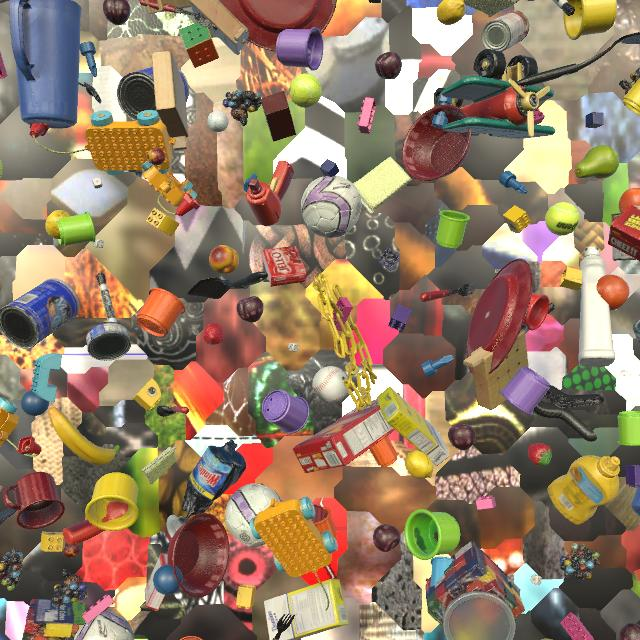ycb_002_master_chef_can: (0, 278, 80, 349), (117, 67, 189, 121)
ycb_003_cracker_box: (293, 393, 401, 473), (608, 205, 640, 261)
ycb_004_sugar_box: (377, 387, 450, 466), (264, 579, 349, 640)
ycb_005_tomato_soup_can: (481, 10, 529, 52), (611, 213, 637, 261)
ycb_006_mustard_bottle: (548, 455, 620, 525)
ycb_007_tuna_fish_can: (86, 322, 131, 361), (633, 319, 640, 344)
ycb_009_gelatin_box: (262, 246, 306, 287), (145, 553, 168, 611), (0, 485, 4, 493)
ycb_011_banana: (48, 407, 120, 466), (541, 639, 552, 640)
ycb_012_strawberry: (528, 443, 552, 466), (203, 323, 224, 345)
ycb_014_lemon: (404, 450, 433, 479), (45, 210, 71, 239), (436, 0, 466, 25)
ycb_015_peach: (209, 245, 239, 274), (0, 280, 2, 291)
ycb_016_pear: (575, 145, 619, 179)
ycb_017_orange: (597, 274, 629, 311), (619, 188, 640, 214)
ycb_018_plum: (373, 524, 401, 552), (375, 52, 402, 80), (237, 296, 264, 323), (448, 424, 476, 450), (103, 0, 131, 25), (619, 623, 640, 640)
